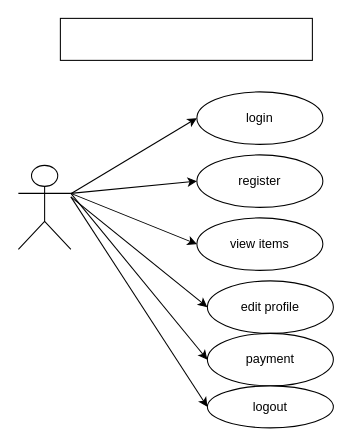
Image size: 352x446. Some labels were removed from this diagram. The centre of each missing label's shape, as x and y in pixels:
Actor: pixel 44 206
USER USE-CASE DIAGRAM: pixel 185 38
